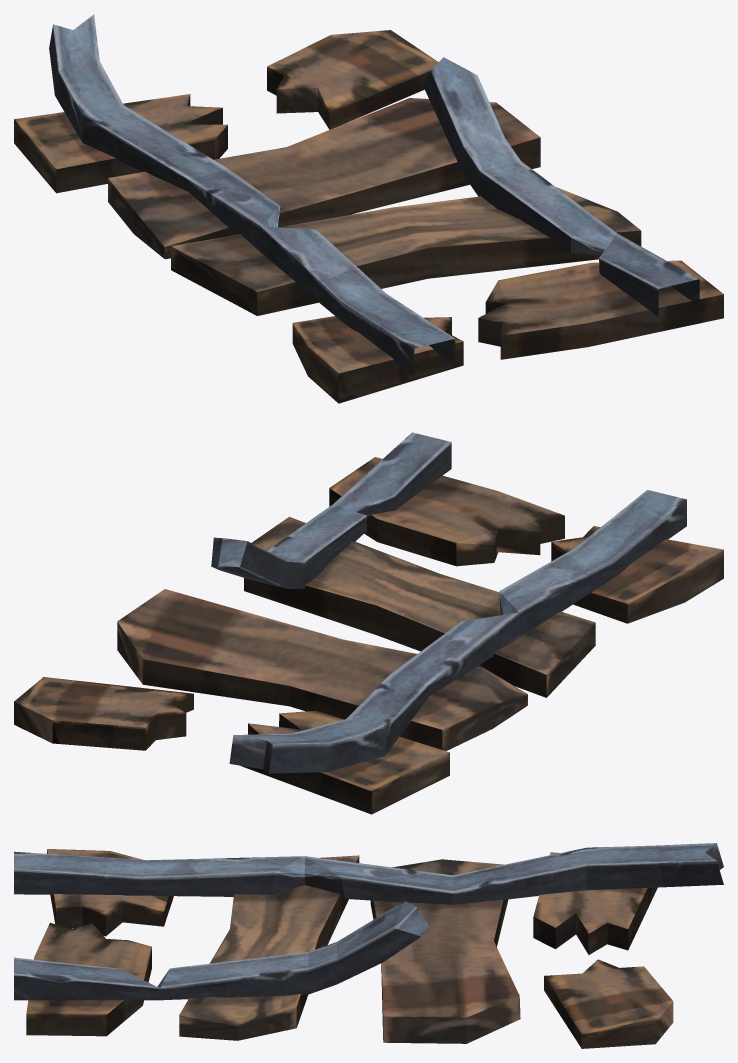
Rendered from mine_track_end_broken.fbx.
The picture shows the model from 3 angles, top to bottom: view 1: azimuth 30°, elevation 25°; view 2: azimuth 150°, elevation 25°; view 3: azimuth 270°, elevation 25°; orthographic projection. The views are drawn at different scales.
Visible parts, largest first — view 1: obj0.099; view 2: obj0.099; view 3: obj0.099.
Boxes of the visible parts, <box> form: obj0.099: <box>14,14,723,403</box>; obj0.099: <box>14,432,723,814</box>; obj0.099: <box>14,843,723,1048</box>.
Bounding box in the file's own units: 1.9 × 0.5274 × 3.24.
